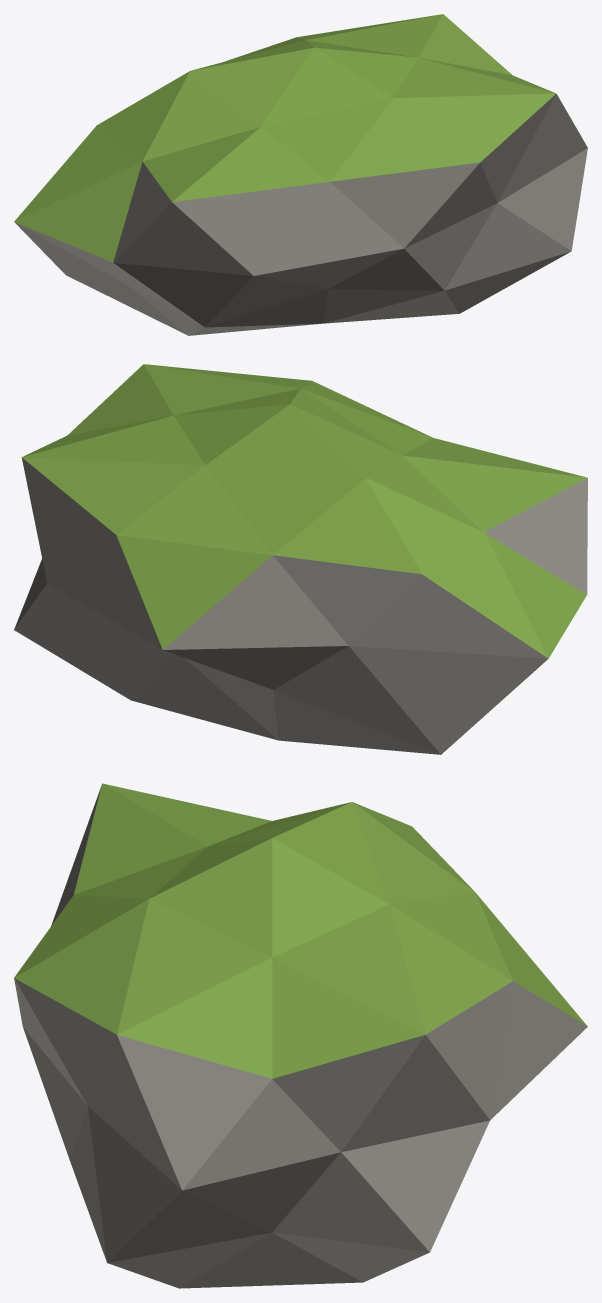
File: RockA.glb
The picture shows the model from 3 angles, top to bottom: view 1: azimuth 30°, elevation 25°; view 2: azimuth 150°, elevation 25°; view 3: azimuth 270°, elevation 25°; orthographic projection. The views are drawn at different scales.
Parts seen in each view (by area): view 1: RockA; view 2: RockA; view 3: RockA.
Part boxes in pixels (box(x1,y1,x2,y2)): RockA: box(14, 14, 587, 335); RockA: box(14, 364, 587, 754); RockA: box(14, 783, 587, 1288).
Bounding box in the file's own units: 3.2 × 1.62 × 2.25.
